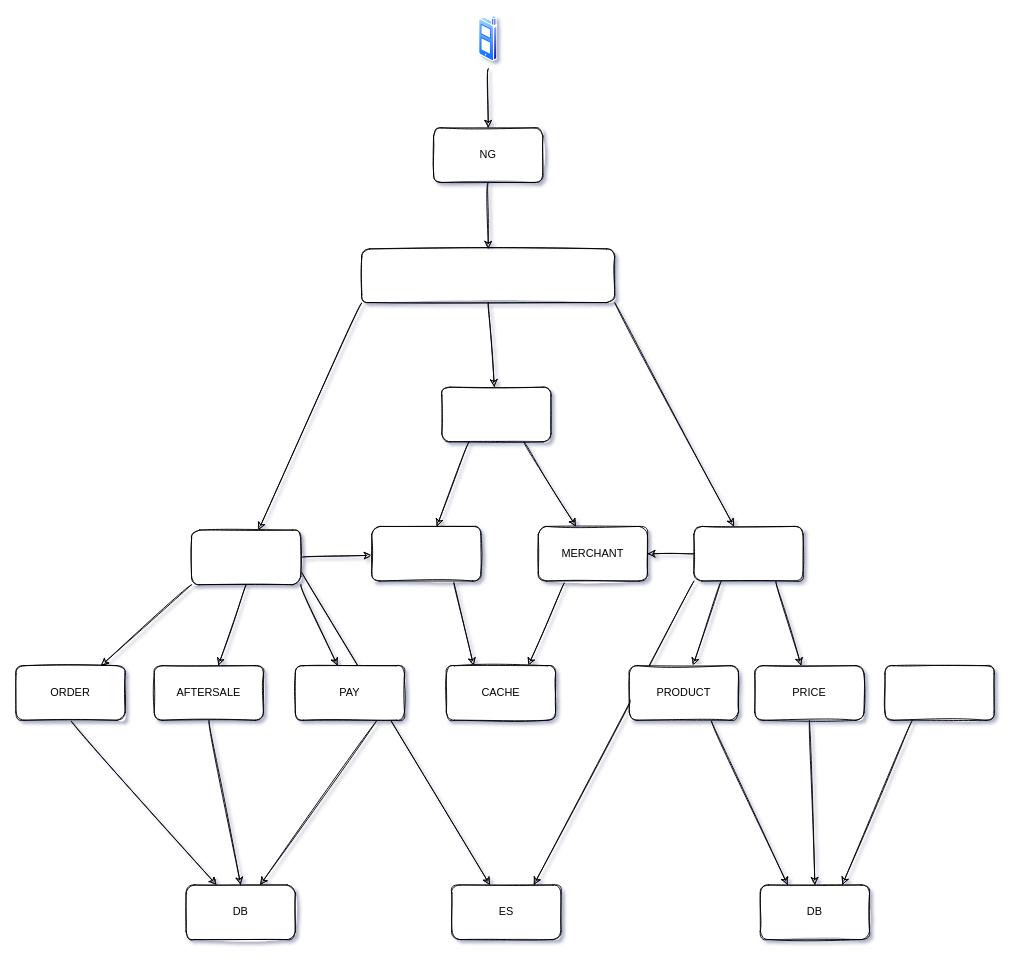
The diagram is 1016 pixels wide and 961 high, and some of its shapes have lost their labels. The shapes that lost their labels are listed below. From the top down, each one's centre as x and y in pixels, then its label:
point (488, 275): GATEWAY
point (496, 414): MEMBER-AGGR
point (246, 557): ORDER-AGGR
point (426, 553): USER
point (748, 553): PRODUCT-AGGR
point (939, 692): INVENTORY
